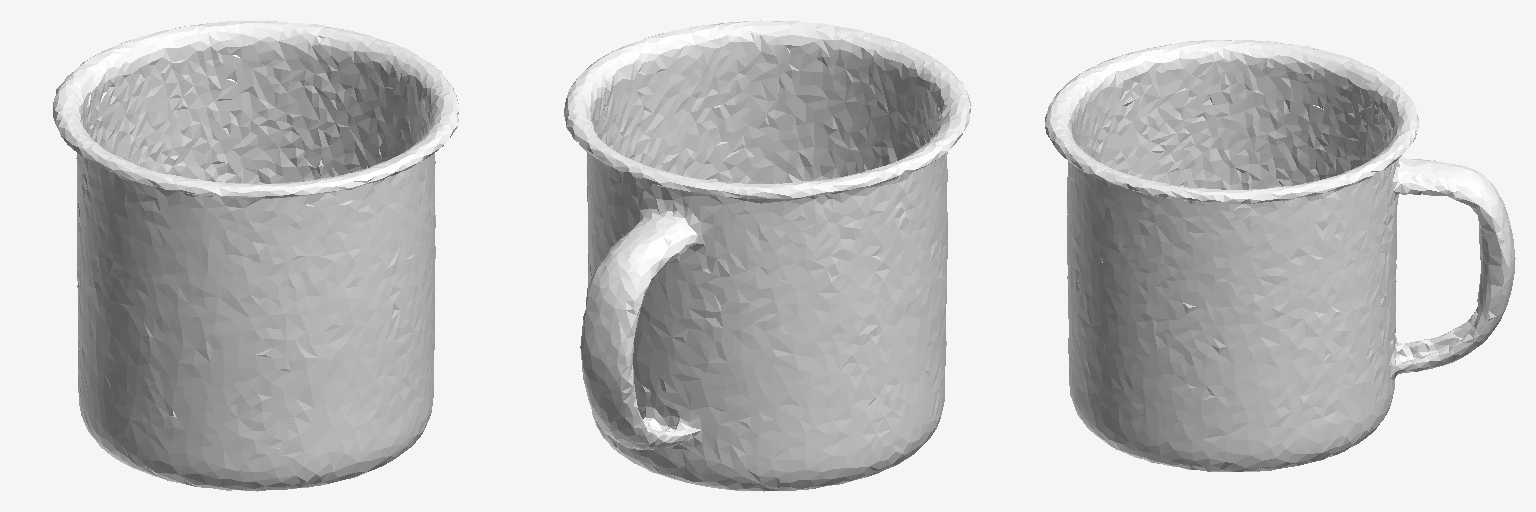
The robot description file, URDF, robot "025_mug":
<?xml version="1.0"?>
<robot name="025_mug">
	<link name="_name">
		<visual>
			<origin rpy="0 0 0" xyz="0 0 0" />
			<geometry>
				<mesh filename="025_mug/google_16k/textured.obj" scale="1 1 1" />
			</geometry>
			<material name="texture">
				<color rgba="1.0 1.0 1.0 1.0" />
			</material>
		</visual>
		<collision>
			<origin rpy="0 0 0" xyz="0 0 0" />
			<geometry>
				<mesh filename="025_mug/google_16k/textured_vhacd.obj" scale="1 1 1" />
			</geometry>
		</collision>
		<inertial>
			<origin rpy="0 0 0" xyz="0 0 0" /> 
			<mass value="0.118" />
			<inertia ixx="1.0" ixy="0.0" ixz="0.0" iyy="1.0" iyz="0.0" izz="1.0" />
		</inertial>
	</link>
</robot>

--- What the picture shows (computed from the rendered views, not written in the file) ---
3 views of the same robot in one strip: view 1: azimuth 30°, elevation 25°; view 2: azimuth 150°, elevation 25°; view 3: azimuth 270°, elevation 25° (orthographic).
Model 025_mug with 1 links and 0 joints (none), rooted at _name, posed every joint at zero.
Links seen in each view (by area): view 1: _name; view 2: _name; view 3: _name.
Boxes of the visible links, <box> form: _name: <box>53,20,458,491</box>; _name: <box>564,20,971,491</box>; _name: <box>1045,40,1515,471</box>.
Size in the robot's own frame: 0.0931 by 0.117 by 0.0813 metres.
1 mesh visuals loaded from 1 distinct referenced files (1 OBJ).
